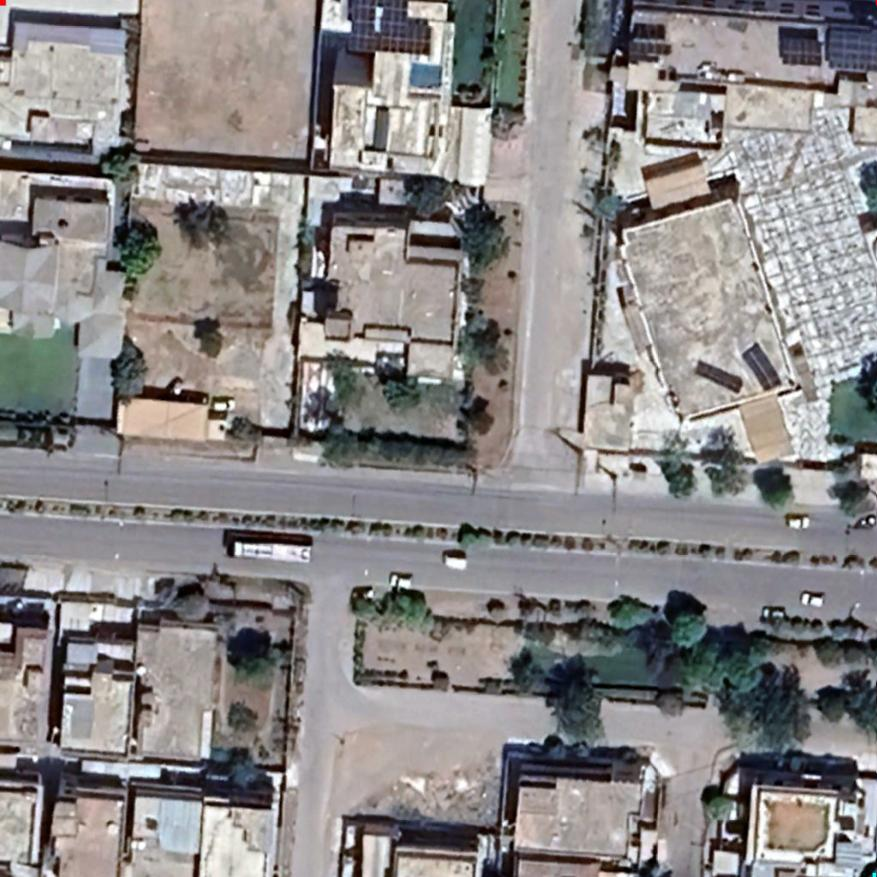Solarpanel: (345, 0, 438, 58), (685, 355, 748, 396), (740, 339, 786, 392), (828, 25, 876, 73), (778, 32, 825, 66), (626, 35, 677, 55)
